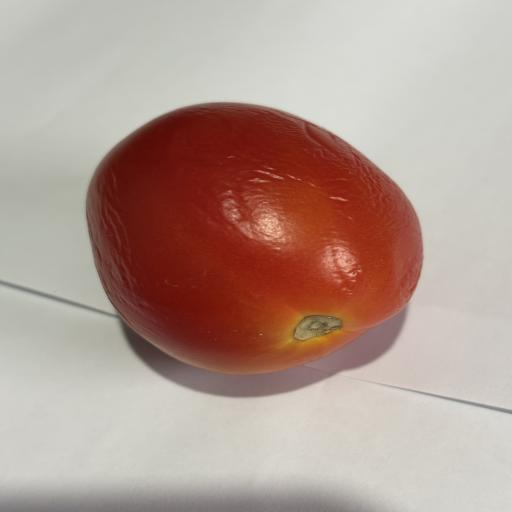spoiled: (87, 103, 422, 374)
